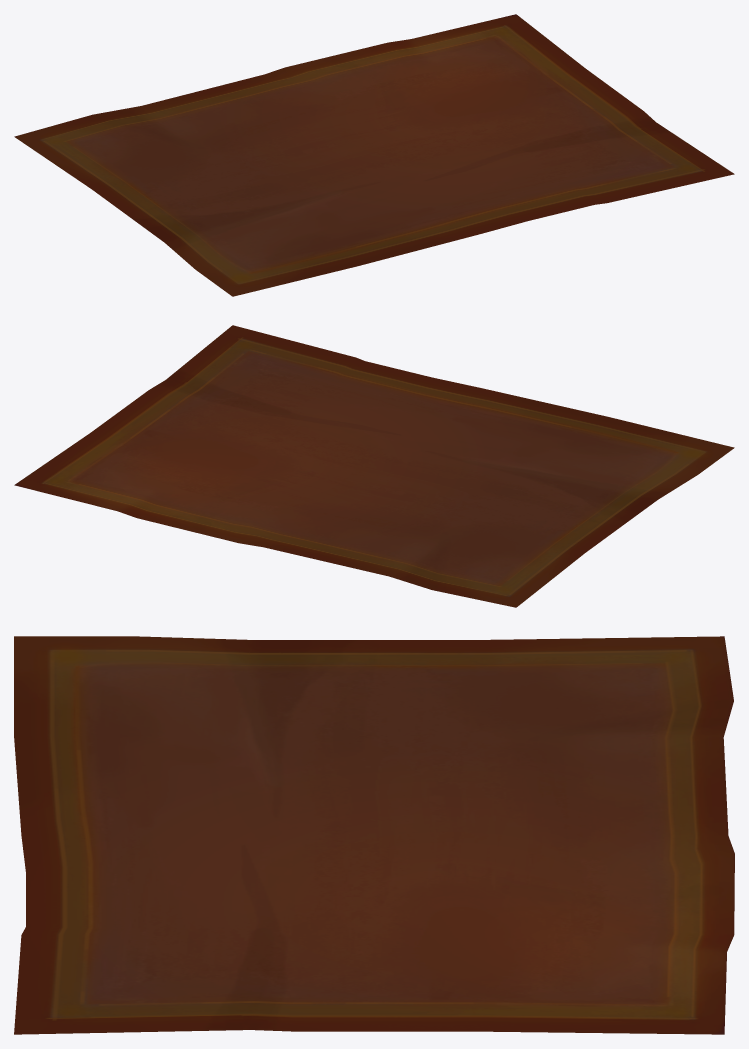
Rendered from daliang_field_a_s05h.fbx.
3 views of the same model, one above another, from view 1: azimuth 30°, elevation 25°; view 2: azimuth 150°, elevation 25°; view 3: azimuth 270°, elevation 25° (orthographic). The views are drawn at different scales.
Visible parts, largest first — view 1: daliang_field_a_s05h; view 2: daliang_field_a_s05h; view 3: daliang_field_a_s05h.
Boxes of the visible parts, x1=… form: daliang_field_a_s05h: x1=14, y1=14, x2=734, y2=296; daliang_field_a_s05h: x1=14, y1=325, x2=734, y2=607; daliang_field_a_s05h: x1=14, y1=636, x2=734, y2=1034.
Bounding box in the file's own units: 808 × 0 × 618.
